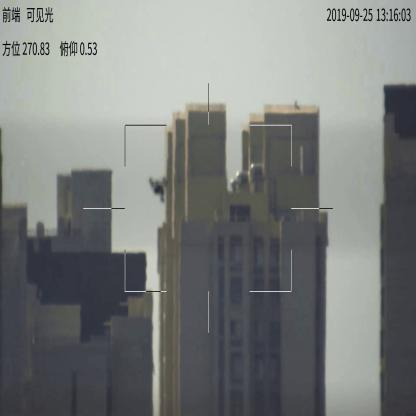uav: (149, 176, 168, 204)
